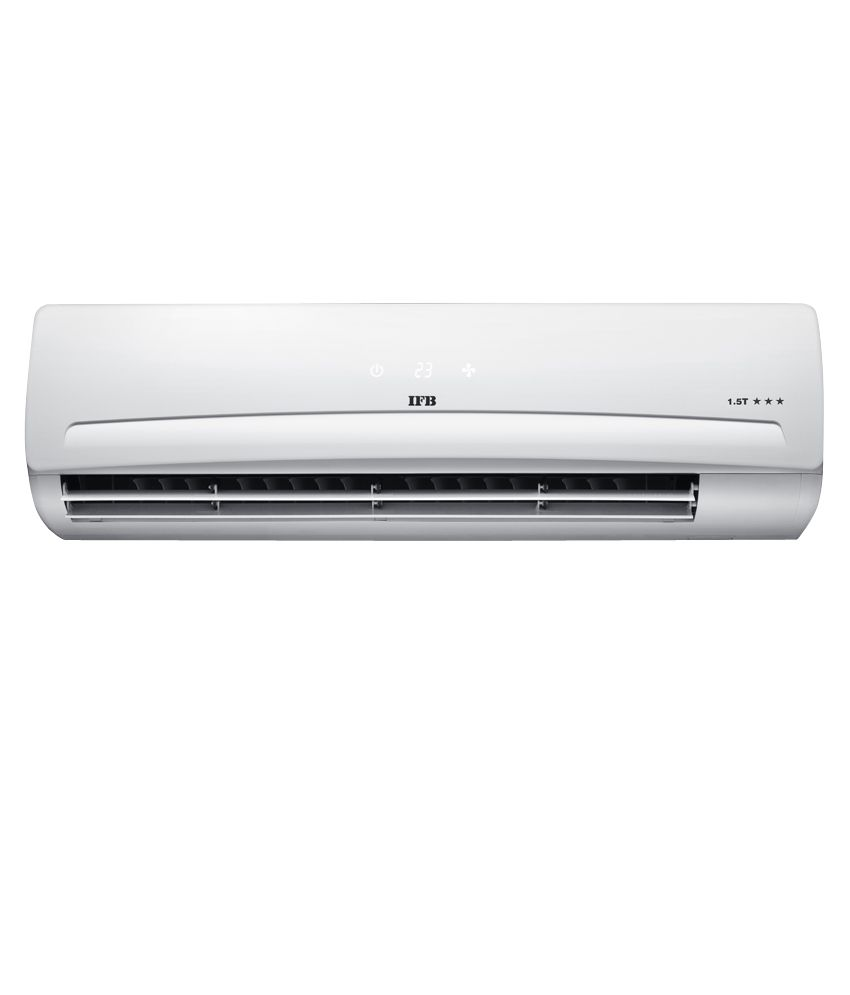ac: (21, 293, 833, 556)
